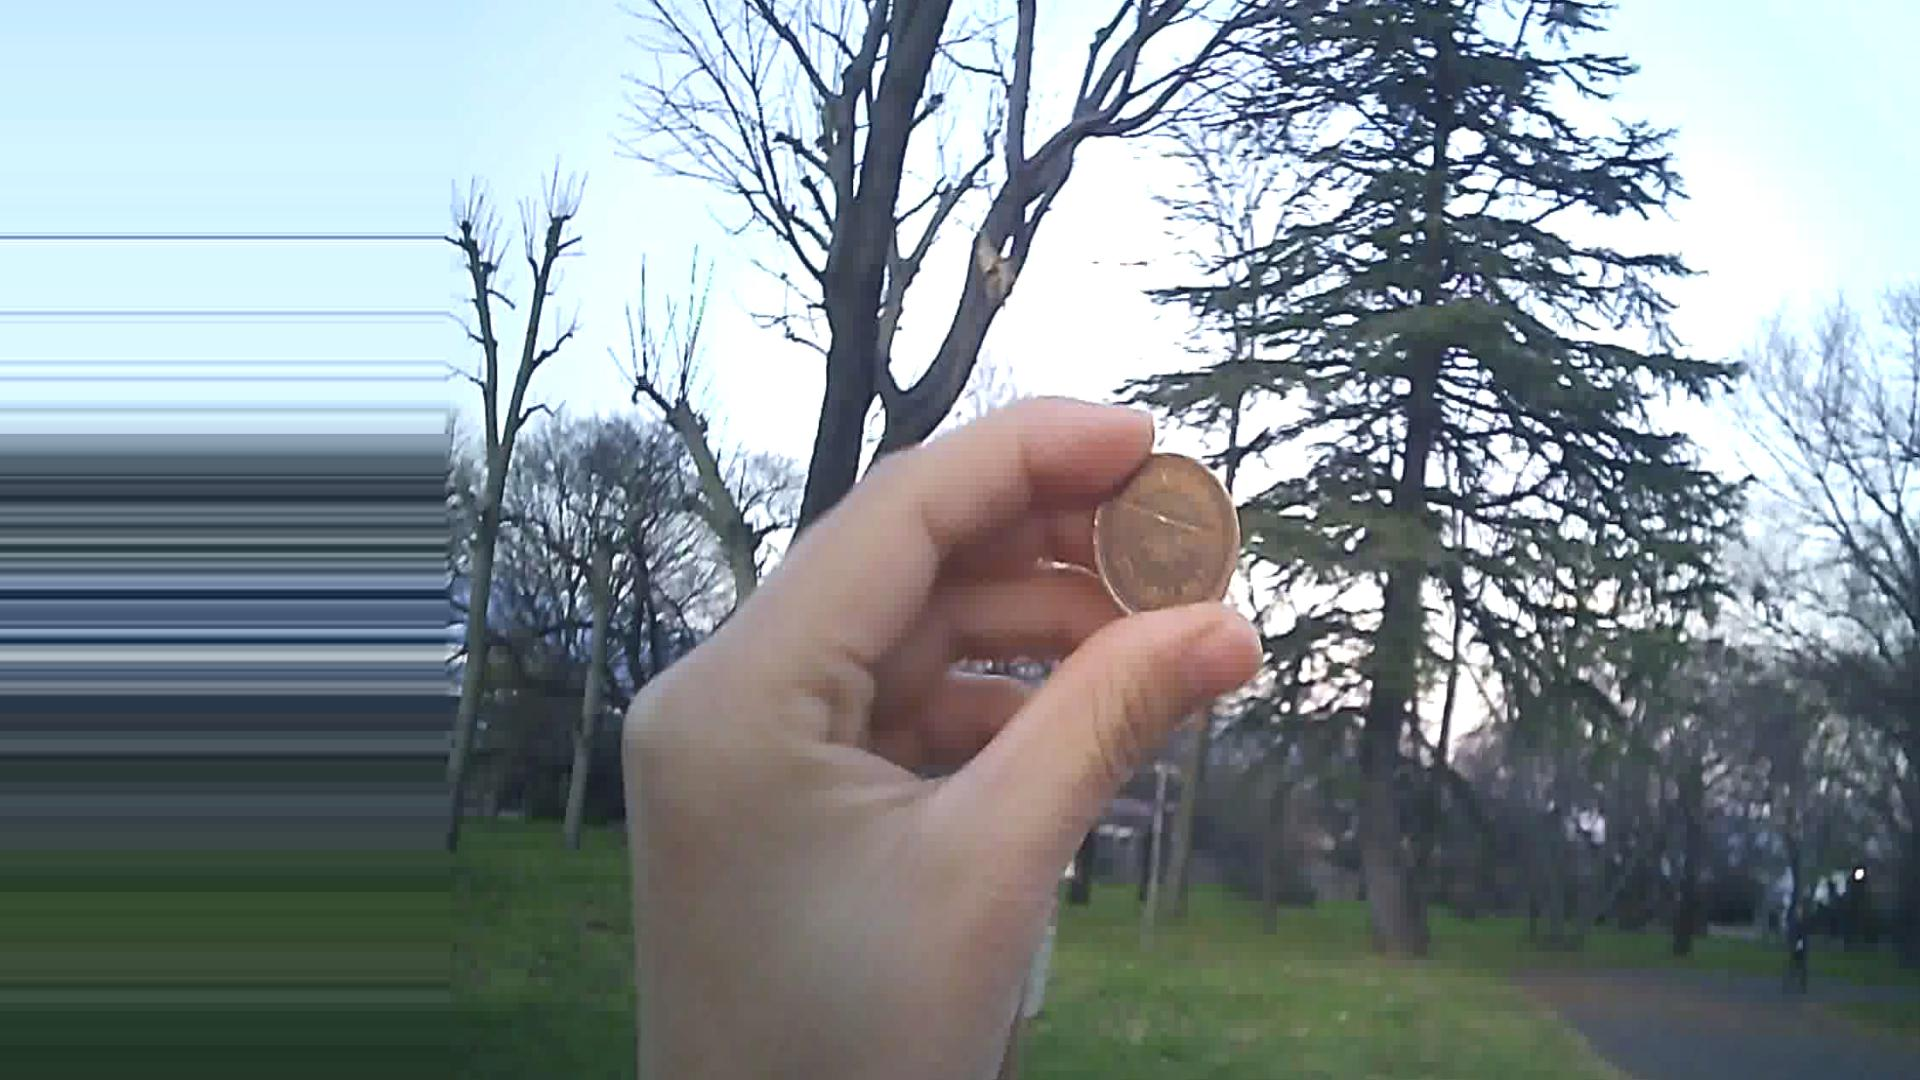10 Yen: (1096, 446, 1244, 613)
